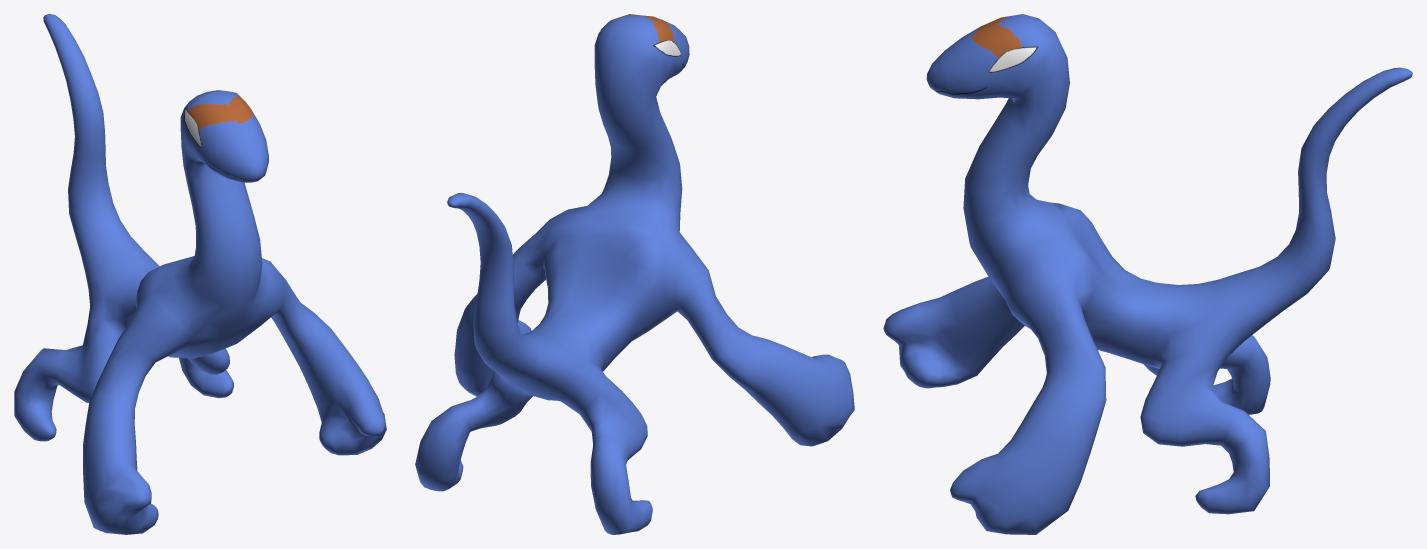
Rendered from LagartoBase.obj.
The picture shows the model from 3 angles, left to right: view 1: azimuth 30°, elevation 25°; view 2: azimuth 150°, elevation 25°; view 3: azimuth 270°, elevation 25°; orthographic projection. The views are drawn at different scales.
Visible parts, largest first — view 1: PolySphere; view 2: PolySphere; view 3: PolySphere.
Boxes of the visible parts, <box> form: PolySphere: <box>14,14,386,534</box>; PolySphere: <box>415,14,854,534</box>; PolySphere: <box>883,14,1412,534</box>.
Size of the model in its own units: 11.36 by 13.2 by 14.28.
Materials: 1 (1 with a texture image).
